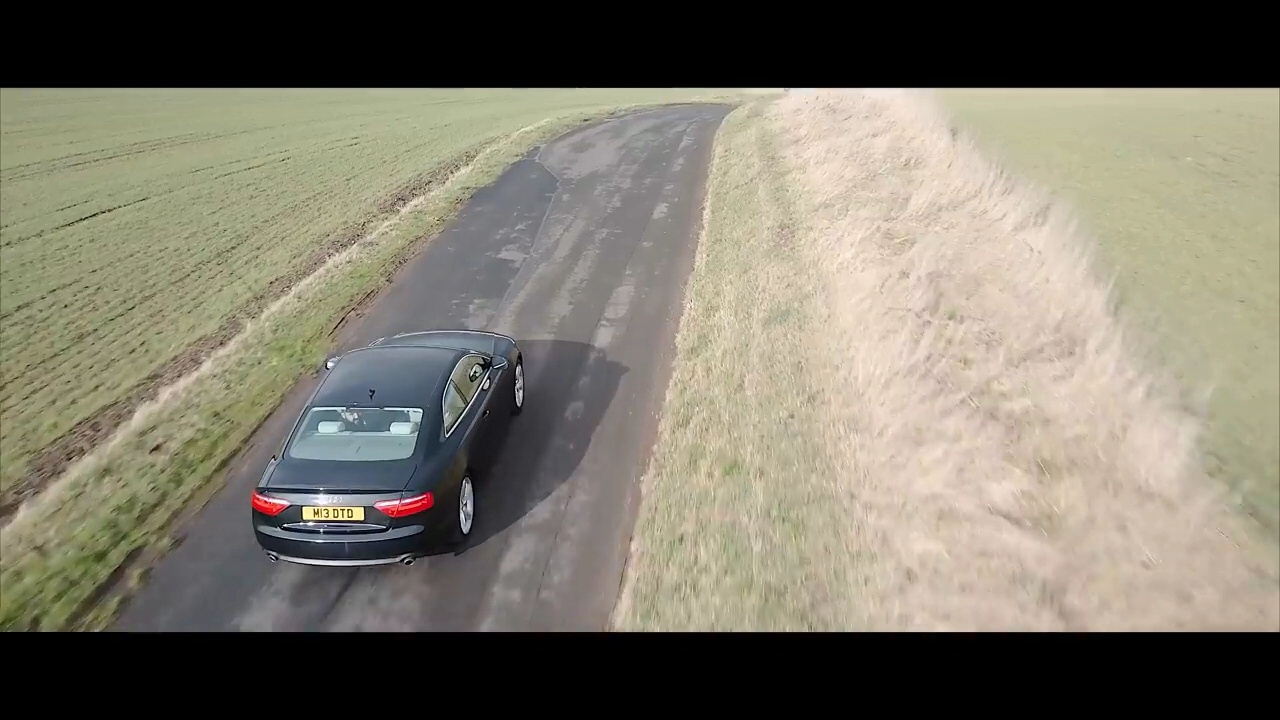araba: (245, 327, 537, 570)
